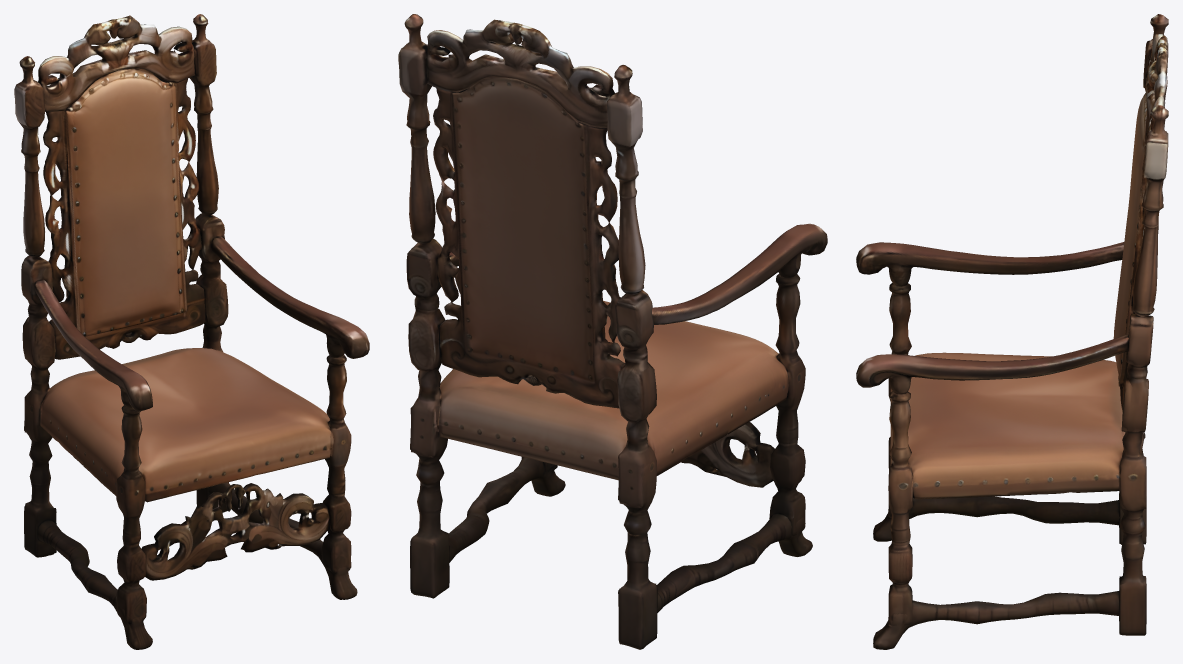
3 views of the same model, side by side, from view 1: azimuth 30°, elevation 25°; view 2: azimuth 150°, elevation 25°; view 3: azimuth 270°, elevation 25° (orthographic). The views are drawn at different scales.
Parts seen in each view (by area): view 1: root.1.0, root.0.0, root.0.1, root.1.3, root.1.1, root.0.2, root.0.3, root.2, root.7, root.6, root.3, root.1.2 (+2 smaller); view 2: root.1.0, root.0.0, root.1.1, root.1.2, root.1.3, root.0.2, root.7, root.6, root.3, root.5, root.4, root.0.1; view 3: root.0.0, root.1.2, root.2, root.3, root.4, root.0.3, root.5, root.6, root.1.0, root.1.3, root.0.2, root.7.
Part boxes in pixels (bbox=[...]): root.1.0: bbox=[43, 68, 205, 359]; root.0.0: bbox=[40, 348, 330, 502]; root.0.1: bbox=[141, 483, 329, 580]; root.1.3: bbox=[38, 15, 195, 111]; root.1.1: bbox=[21, 255, 56, 557]; root.0.2: bbox=[116, 405, 146, 623]; root.0.3: bbox=[321, 355, 351, 573]; root.2: bbox=[211, 236, 369, 358]; root.7: bbox=[14, 56, 44, 257]; root.6: bbox=[189, 14, 218, 215]; root.3: bbox=[34, 279, 152, 411]; root.1.2: bbox=[195, 213, 228, 512]; root.1.0: bbox=[433, 77, 624, 408]; root.0.0: bbox=[439, 300, 788, 480]; root.1.1: bbox=[614, 290, 657, 649]; root.1.2: bbox=[406, 239, 449, 598]; root.1.3: bbox=[426, 19, 614, 127]; root.0.2: bbox=[769, 274, 805, 536]; root.7: bbox=[606, 64, 645, 295]; root.6: bbox=[398, 14, 435, 244]; root.3: bbox=[652, 223, 827, 324]; root.5: bbox=[657, 513, 812, 612]; root.4: bbox=[448, 457, 565, 562]; root.0.1: bbox=[681, 422, 774, 487]; root.0.0: bbox=[890, 352, 1125, 499]; root.1.2: bbox=[1119, 313, 1153, 635]; root.2: bbox=[856, 334, 1128, 394]; root.3: bbox=[856, 242, 1124, 286]; root.4: bbox=[873, 591, 1119, 649]; root.0.3: bbox=[888, 391, 913, 626]; root.5: bbox=[873, 496, 1119, 541]; root.6: bbox=[1132, 105, 1168, 316]; root.1.0: bbox=[1113, 92, 1146, 411]; root.1.3: bbox=[1145, 34, 1167, 143]; root.0.2: bbox=[888, 283, 911, 518]; root.7: bbox=[1143, 14, 1168, 87].
Size of the model in its own units: 0.6123 by 1.25 by 0.6456.
14 materials, 14 textured.
